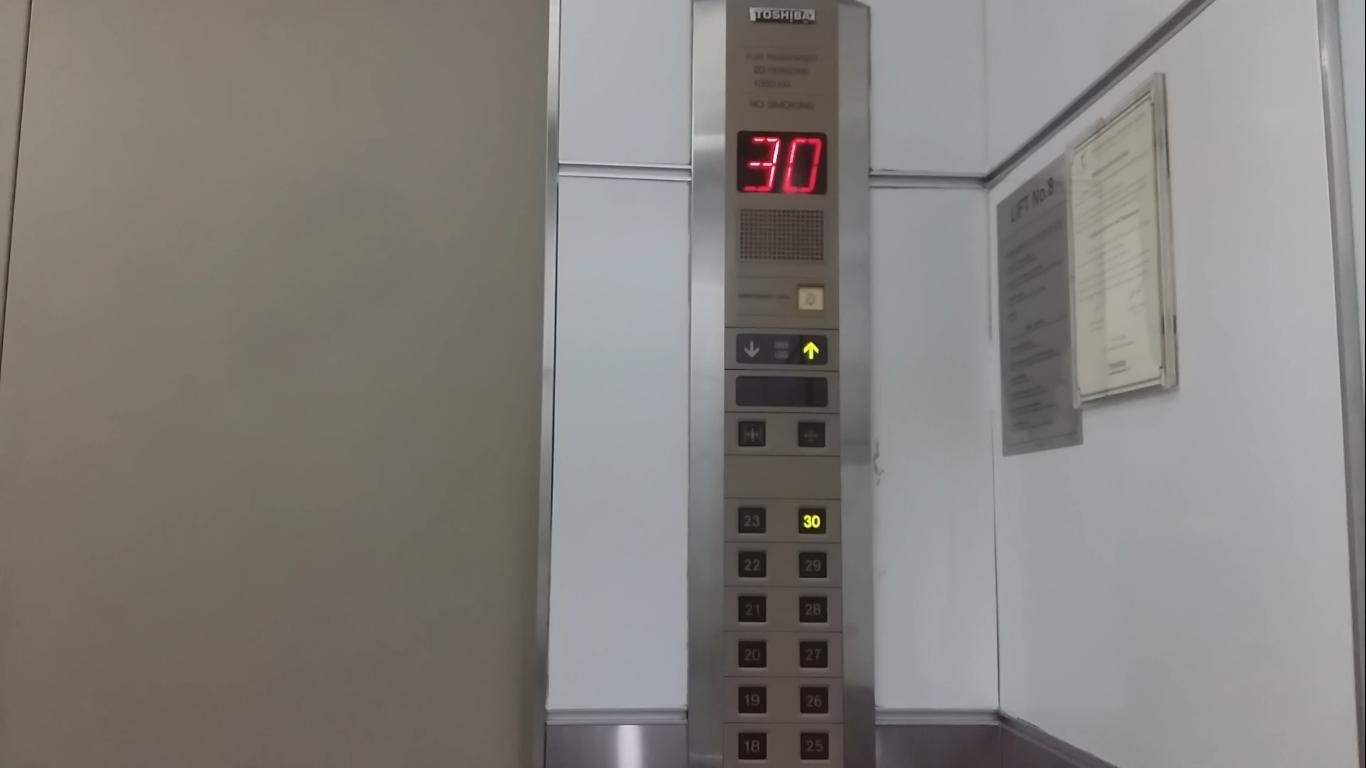18: (735, 729, 769, 762)
19: (736, 683, 770, 716)
20: (735, 637, 769, 670)
21: (735, 593, 769, 626)
22: (735, 547, 769, 580)
23: (735, 503, 769, 536)
25: (797, 729, 831, 762)
26: (797, 683, 831, 716)
27: (797, 637, 831, 670)
28: (796, 592, 830, 625)
29: (796, 548, 830, 581)
30: (793, 502, 827, 535)
alarm: (794, 282, 828, 314)
close: (794, 418, 828, 451)
led: (736, 125, 832, 200), (733, 373, 831, 410)
open: (733, 417, 767, 450)
unknown: (734, 331, 829, 366)
